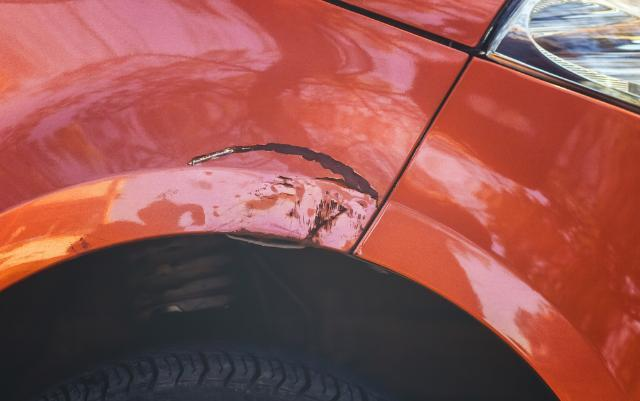scratch: (182, 139, 381, 253)
